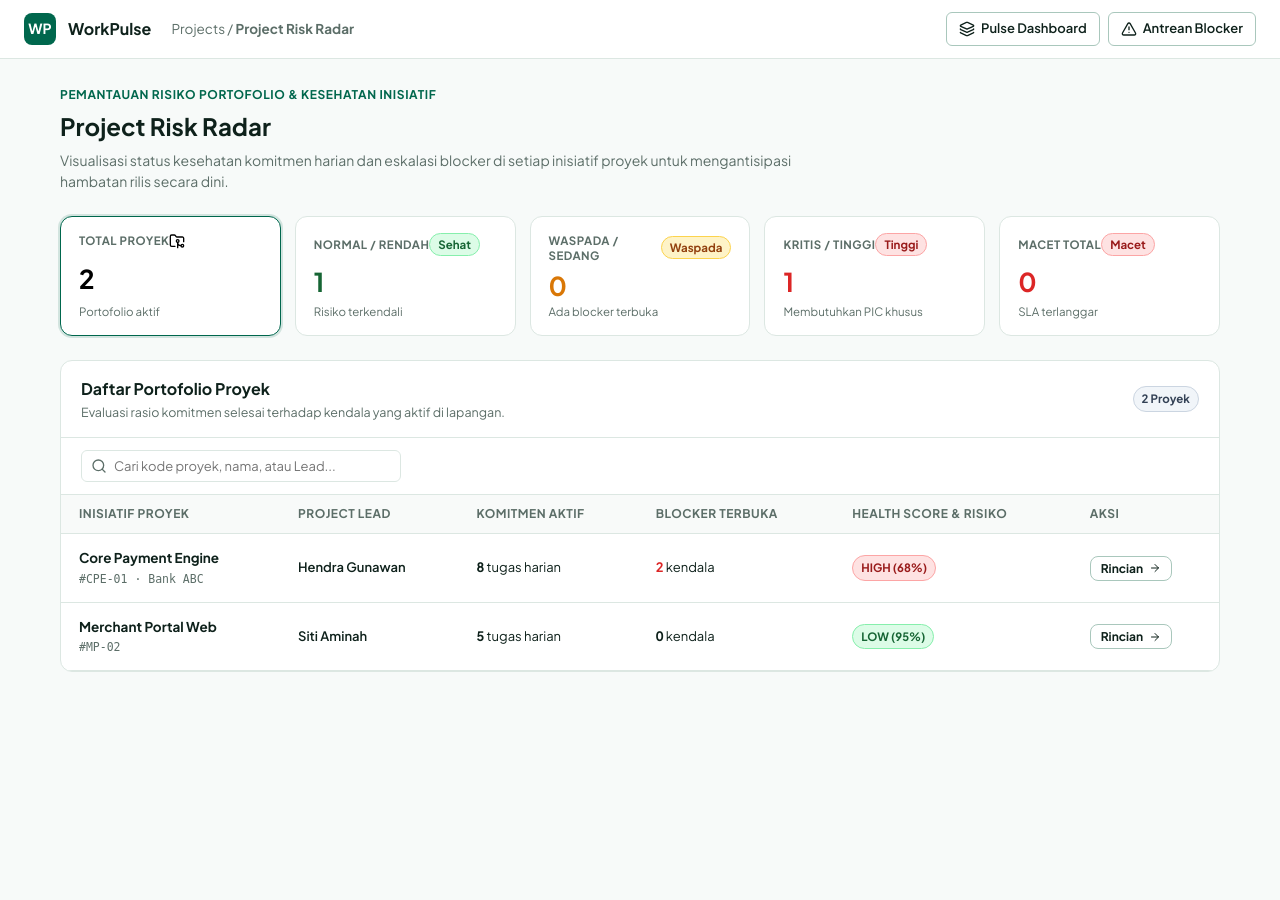
Test: ProjectRiskView.vue (Prototipe 13 / EP12 - Project Risk Radar) › opens project detail modal when Rincian button is clicked
Click the button "Rincian" in the row of "Core Payment Engine" at coordinates (1131, 568), box [1090,556,1172,580]
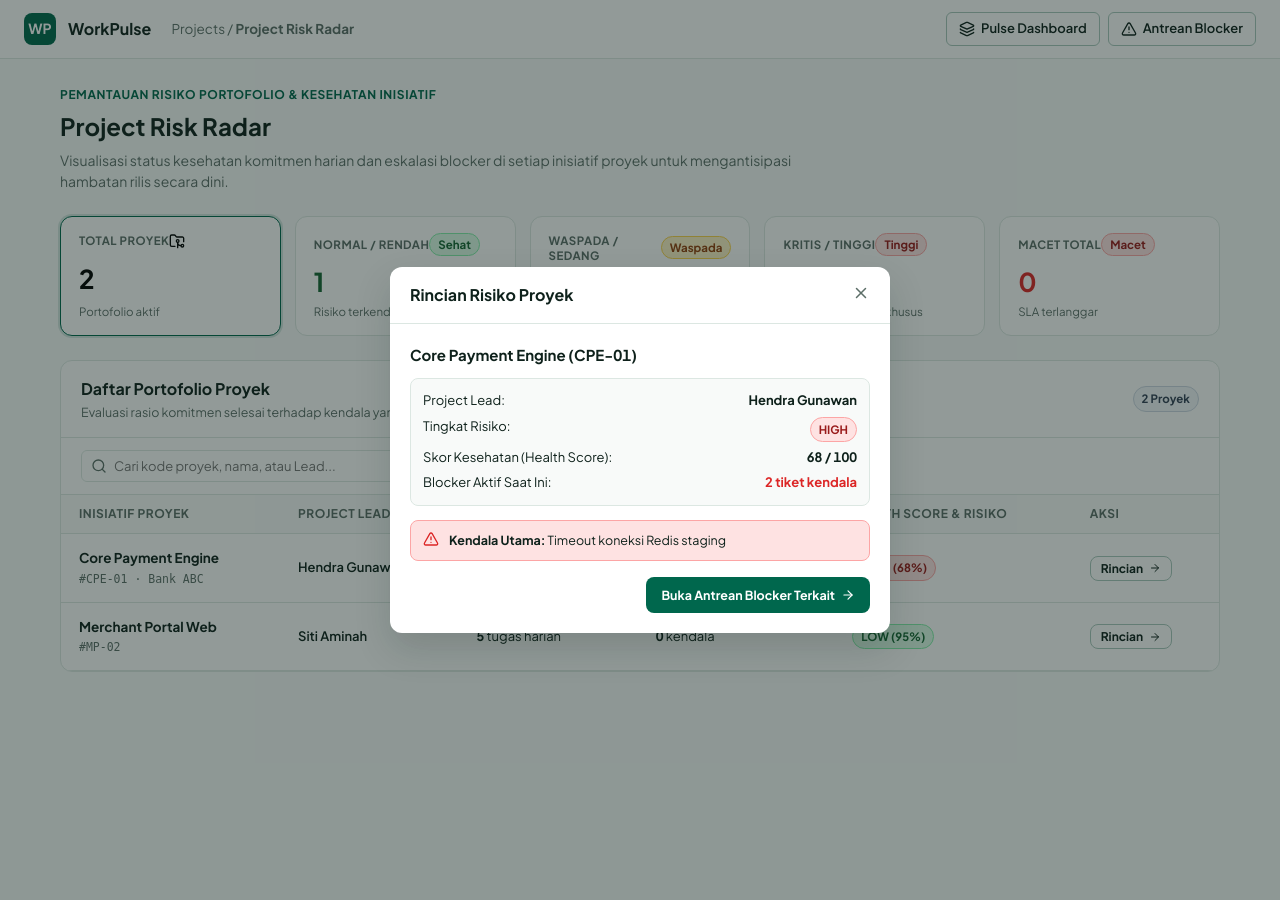
Check: the element with class "modal-card" is shown, box [390,267,890,633]
Check: the text "Rincian Risiko Proyek" is shown, box [410,283,574,307]
Check: the text "Timeout koneksi Redis staging" is shown, box [546,532,726,548]
